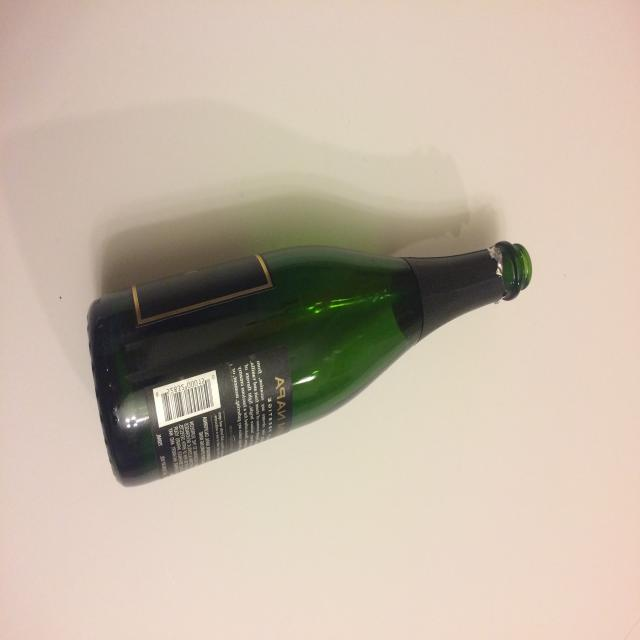glass: (87, 241, 532, 489)
